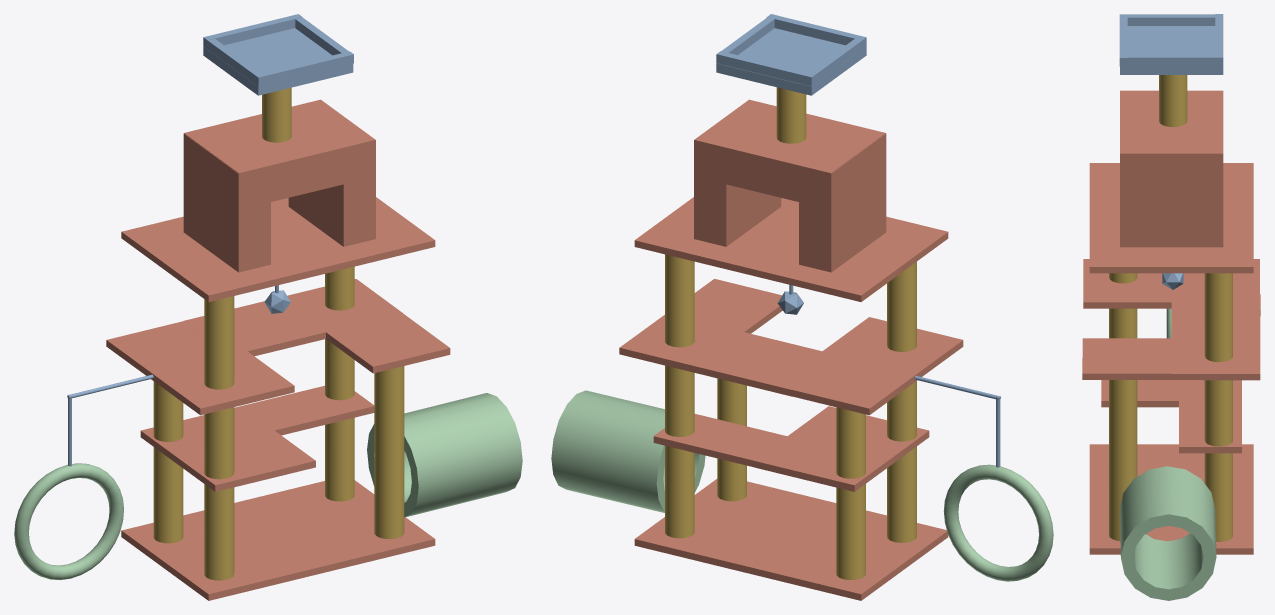
The model's file is cat_tower.fbx.
The picture shows the model from 3 angles, left to right: view 1: azimuth 30°, elevation 25°; view 2: azimuth 150°, elevation 25°; view 3: azimuth 270°, elevation 25°; orthographic projection. The views are drawn at different scales.
Parts seen in each view (by area): view 1: Cylinder_7; view 2: Cylinder_7; view 3: Cylinder_7.
Boxes of the visible parts, <box> form: Cylinder_7: <box>14,14,522,600</box>; Cylinder_7: <box>551,14,1053,600</box>; Cylinder_7: <box>1082,14,1260,600</box>.
Size of the model in its own units: 1007 by 995 by 344.
